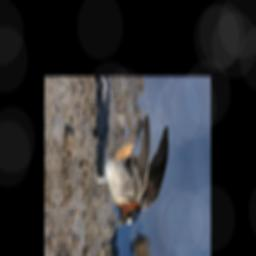Swallow: (80, 112, 179, 229)
